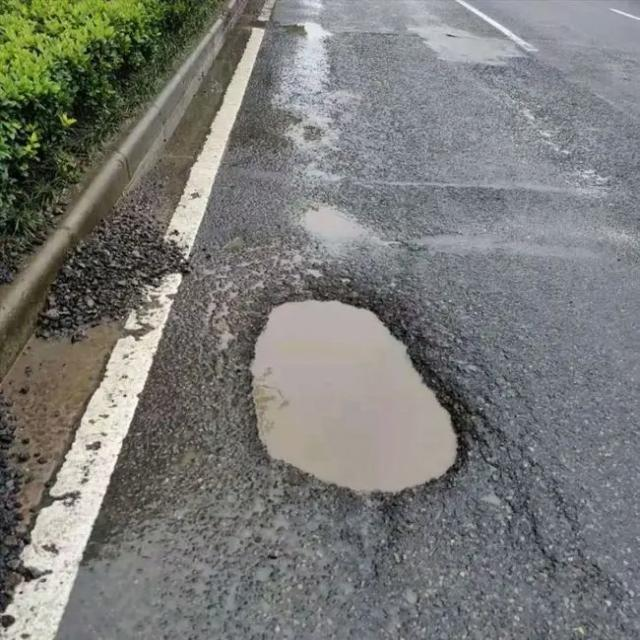Pothole: (245, 277, 473, 508)
